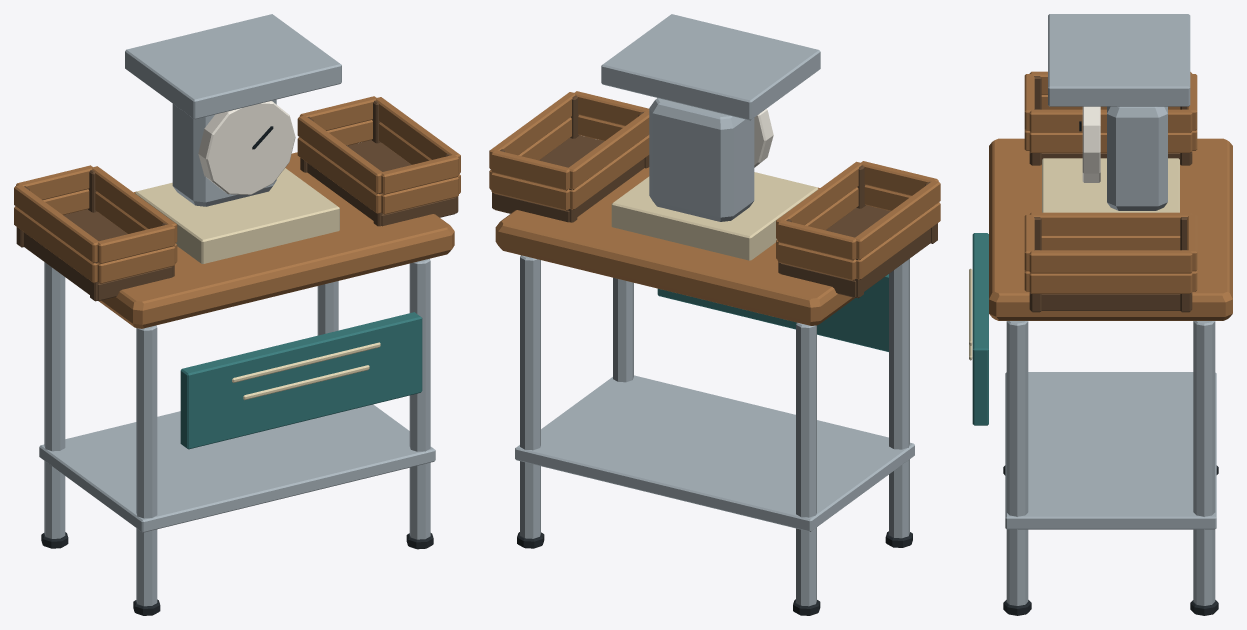
Rendered from b10_farmers_market_scale_table.glb.
3 renders of one model, left to right at view 1: azimuth 30°, elevation 25°; view 2: azimuth 150°, elevation 25°; view 3: azimuth 270°, elevation 25°, orthographic.
Visible parts, largest first — view 1: b10_farmers_market_scale_table; view 2: b10_farmers_market_scale_table; view 3: b10_farmers_market_scale_table.
Boxes of the visible parts, x1,y1,x2,y2 form: b10_farmers_market_scale_table: (14, 14, 460, 615); b10_farmers_market_scale_table: (489, 14, 940, 615); b10_farmers_market_scale_table: (969, 14, 1232, 615).
Size of the model in its own units: 1.07 by 1.34 by 0.649.
